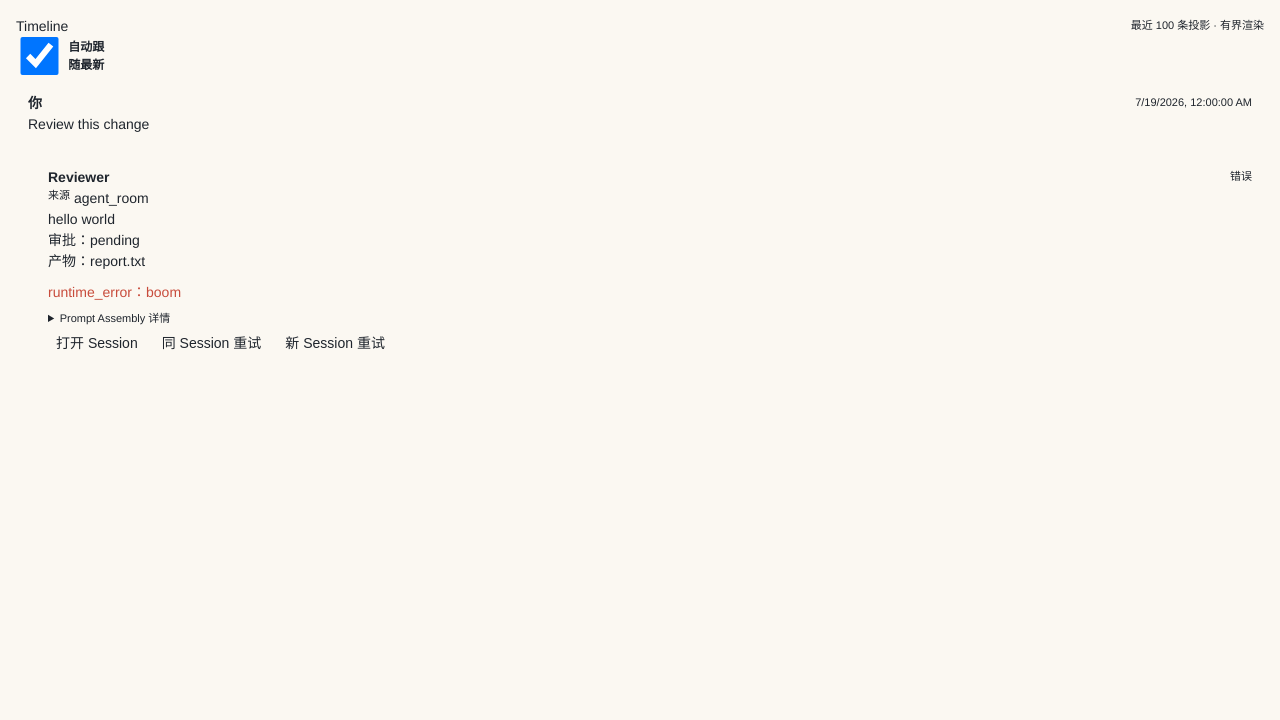
Test case: AgentRoomTimelinePanel › shows allowlisted prompt assembly diagnostics without rendering a full prompt or token
What coordinates should you click on to do the following:
click the heading "Prompt Assembly 详情"
I would click on:
 (115, 319)
Its box is top-left (60, 313), bottom-right (170, 325).
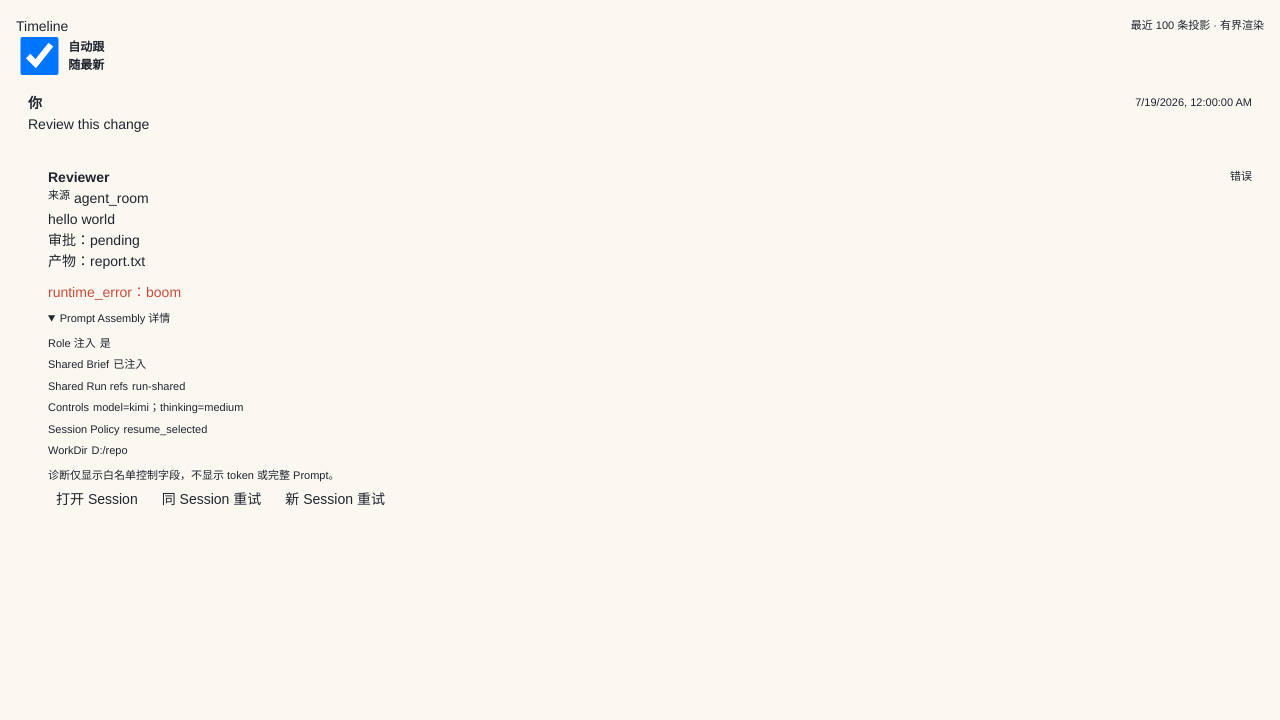
Result: the text "run-shared" is shown at top-left (132, 378), bottom-right (185, 395)
Result: the text "model=kimi；thinking=medium" is shown at top-left (93, 400), bottom-right (243, 416)
Result: the text "resume_selected" is shown at top-left (124, 422), bottom-right (207, 438)
